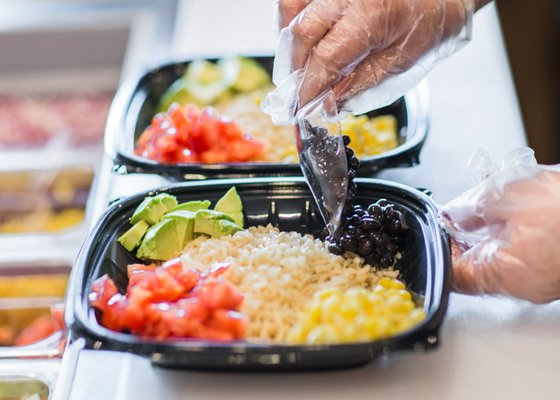sushi: (67, 174, 451, 374)
